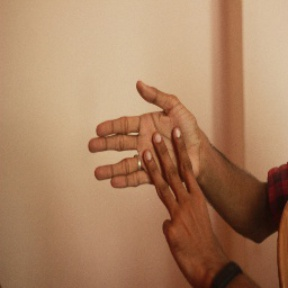M: (80, 78, 216, 228)
